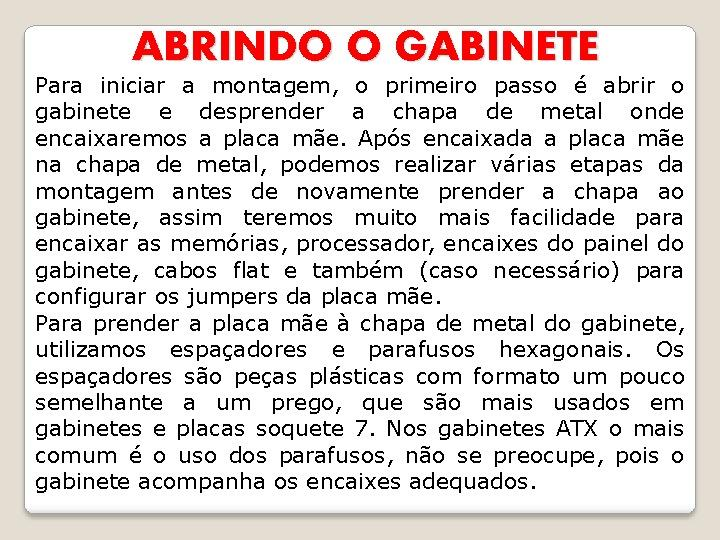paragraph: (30, 71, 696, 498)
title: (123, 24, 607, 71)
